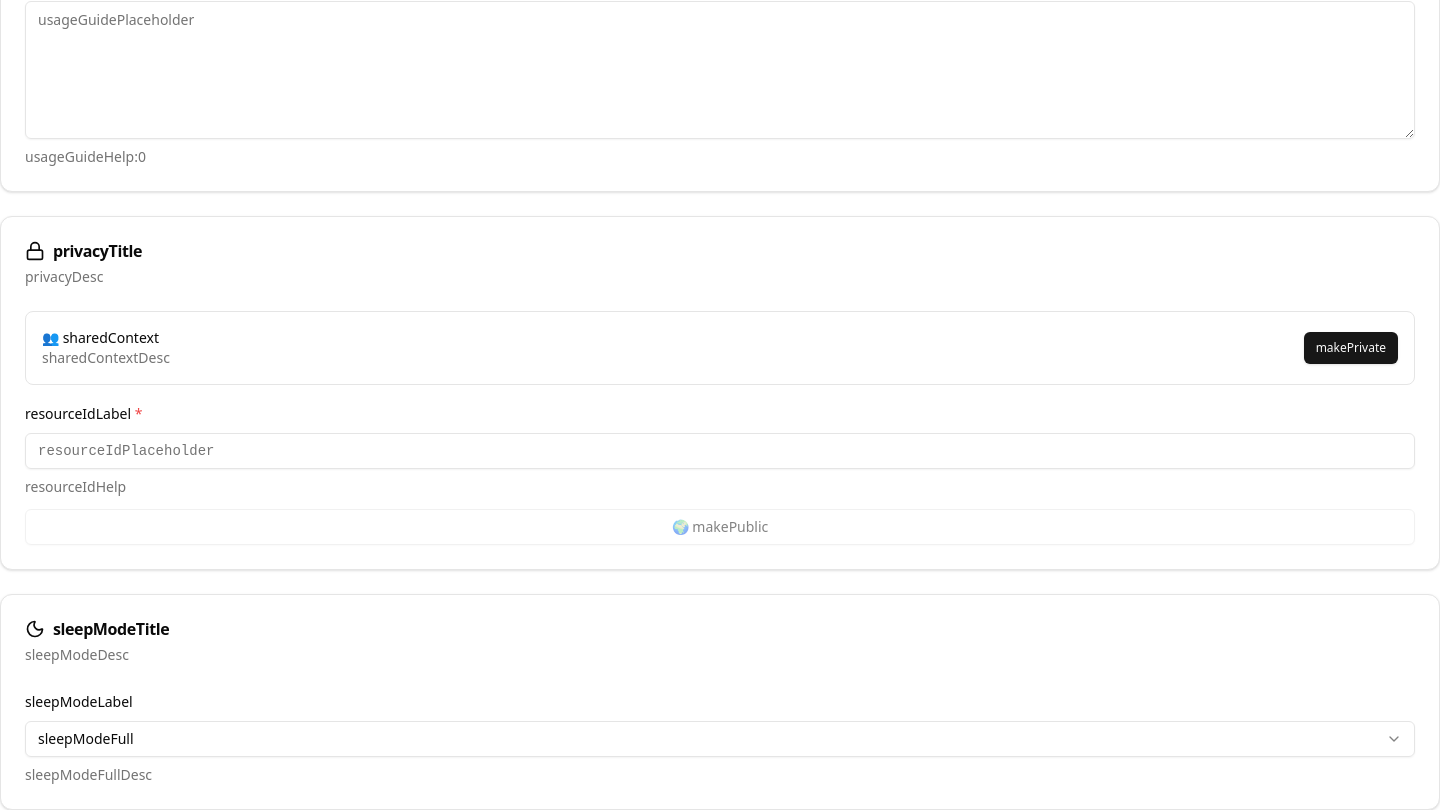
Scenario: SettingsTabPanel — resource_id input validation › filters keystrokes to lowercase + [a-z0-9_] only when typing in the resource_id input
(page scrolled)
In the field with placeholder "resourceIdPlaceholder": [720, 451] box [25, 433, 1415, 469], type "ABC-def_123!"
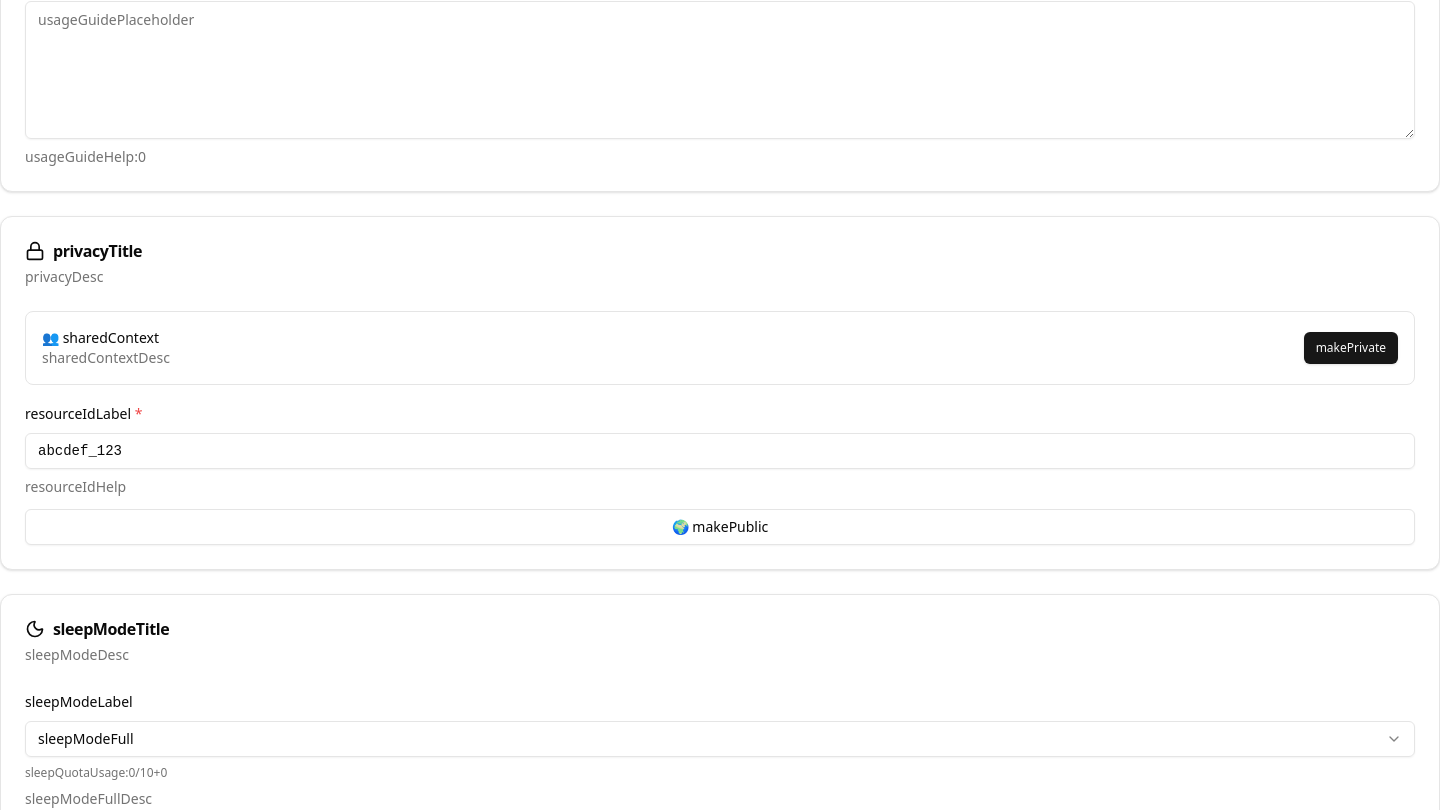
Now the field with placeholder "resourceIdPlaceholder" holds "abcdef_123", box [25, 433, 1415, 469]
